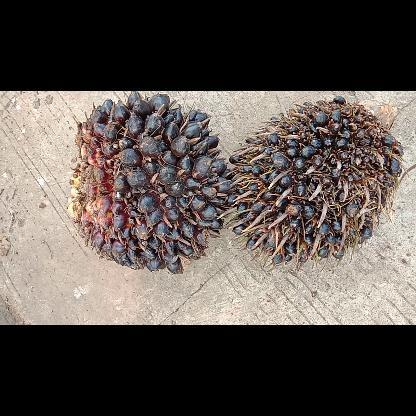TBS mentah: (62, 90, 236, 276), (226, 91, 406, 269)
